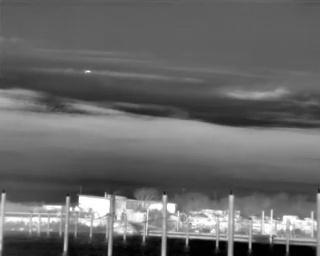BIRD: (82, 67, 93, 77)
